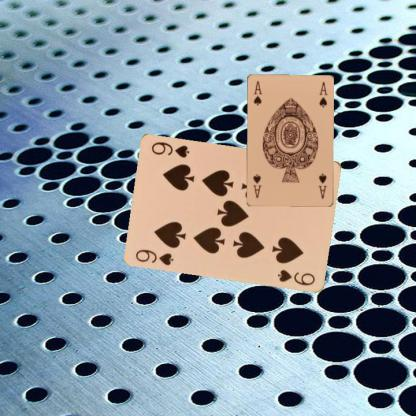9s: (133, 246, 175, 266)
As: (317, 171, 328, 200), (252, 78, 263, 107)
